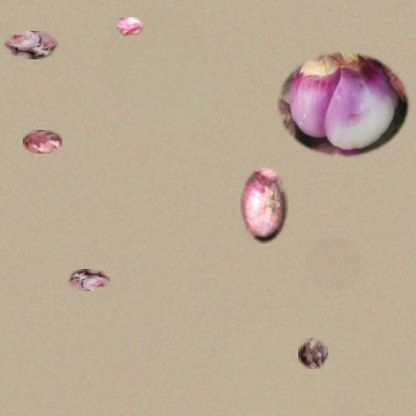damaged: (274, 50, 412, 159)
healthy: (240, 166, 288, 244)
rotten: (23, 130, 63, 154), (298, 338, 328, 369), (115, 17, 143, 36)
sprouted: (4, 31, 58, 59), (67, 269, 110, 291)
